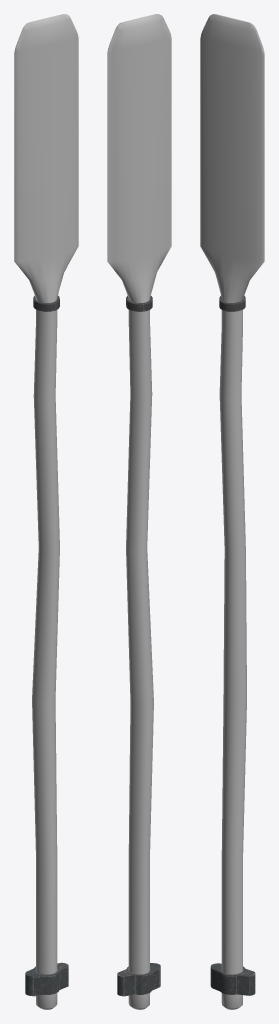
File: SM_Boat-Oar.fbx
3 views of the same model, side by side, from view 1: azimuth 30°, elevation 25°; view 2: azimuth 210°, elevation 25°; view 3: azimuth 330°, elevation 25° (orthographic).
Parts seen in each view (by area): view 1: SM_Boat-Oar_LOD0; view 2: SM_Boat-Oar_LOD0; view 3: SM_Boat-Oar_LOD0.
Boxes of the visible parts, x1,y1,x2,y2 form: SM_Boat-Oar_LOD0: (14,14,78,1009); SM_Boat-Oar_LOD0: (107,14,171,1009); SM_Boat-Oar_LOD0: (200,14,264,1009).
Size of the model in its own units: 15.13 by 6.58 by 223.
Materials: 2 (1 with a texture image).
